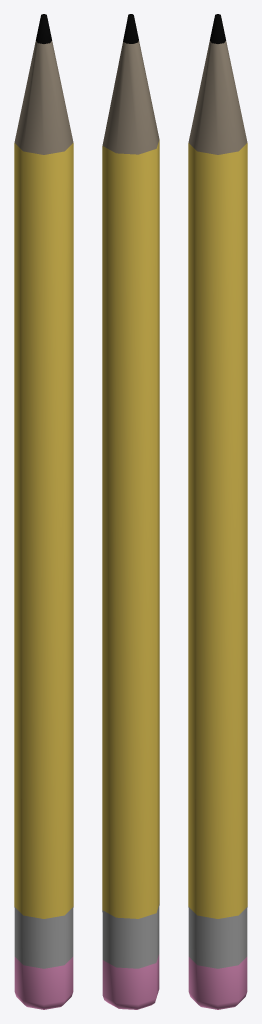
The model's file is Pencil.fbx.
3 views of the same model, side by side, from view 1: azimuth 90°, elevation 25°; view 2: azimuth 150°, elevation 25°; view 3: azimuth 270°, elevation 25° (orthographic).
Parts seen in each view (by area): view 1: Pencil; view 2: Pencil; view 3: Pencil.
Part boxes in pixels (<box>): Pencil: <box>14,14,73,1009</box>; Pencil: <box>102,14,159,1009</box>; Pencil: <box>188,14,247,1009</box>.
Bounding box in the file's own units: 42 × 774 × 42.
